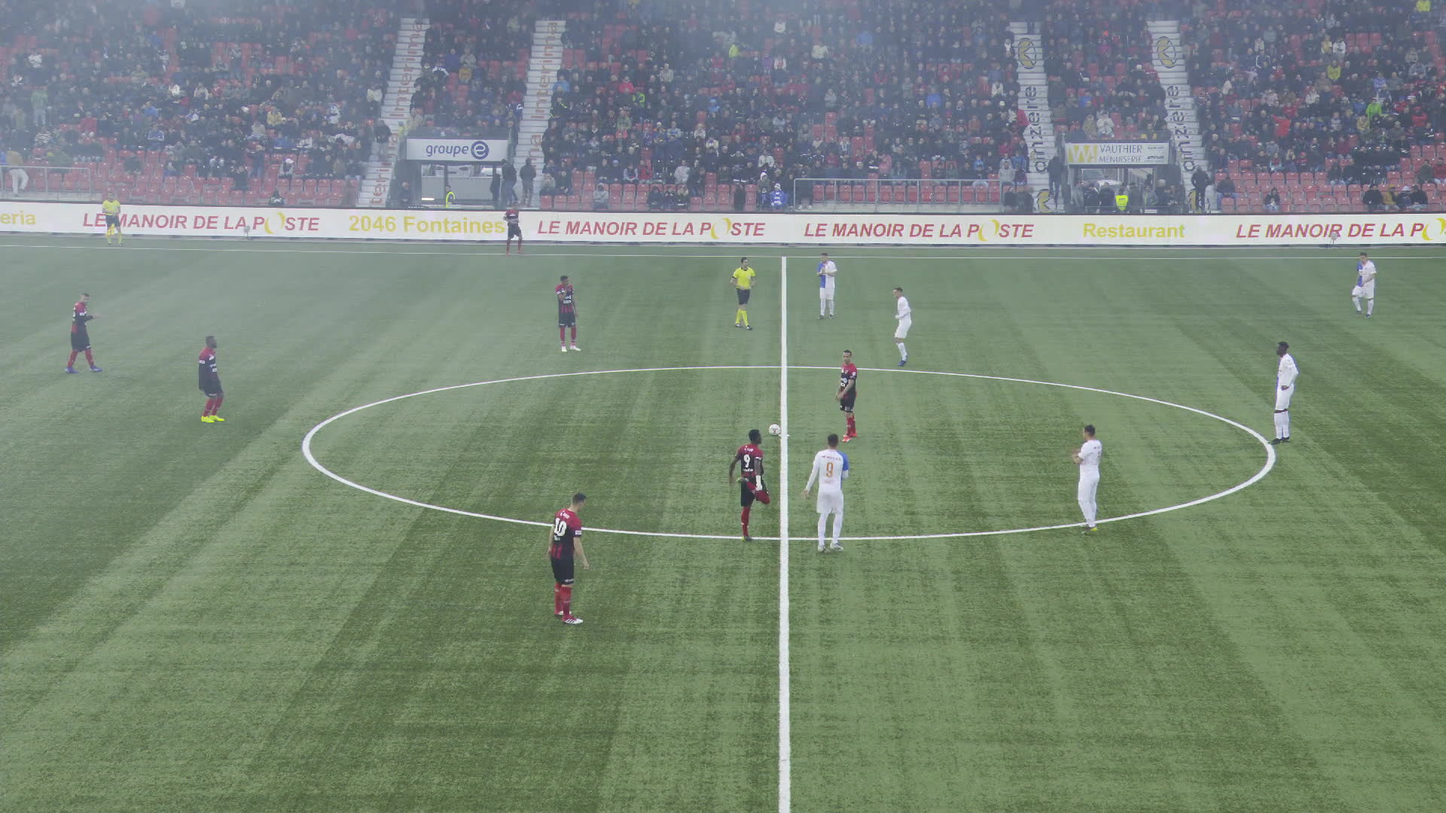ball: (768, 424, 779, 434)
player: (1064, 424, 1123, 534), (802, 437, 850, 553), (547, 492, 587, 625), (728, 428, 768, 543), (1268, 342, 1298, 444), (66, 291, 103, 373), (831, 349, 857, 442), (198, 335, 224, 422), (555, 274, 581, 351), (889, 288, 913, 364), (1352, 251, 1375, 318), (816, 251, 836, 319), (503, 202, 523, 254)
referee: (730, 255, 754, 328), (102, 192, 123, 246)
